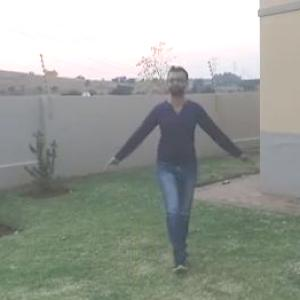land: (122, 76, 240, 280)
